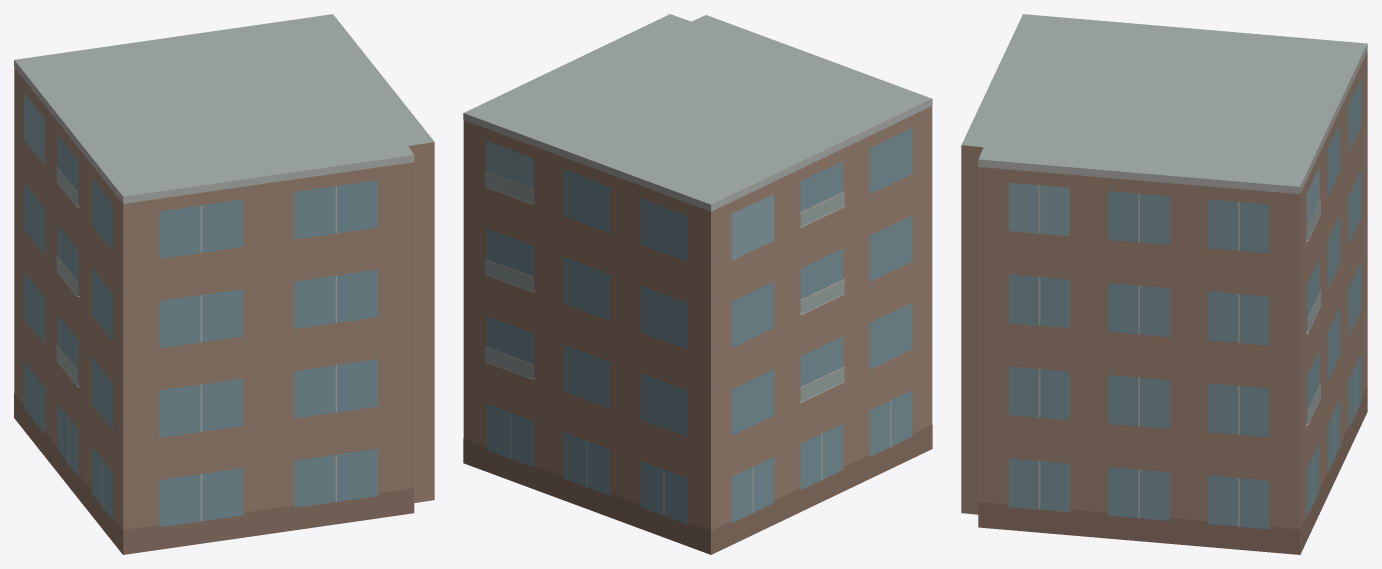
File: survey-upis-32666447.glb
The picture shows the model from 3 angles, left to right: view 1: azimuth 30°, elevation 25°; view 2: azimuth 150°, elevation 25°; view 3: azimuth 270°, elevation 25°; orthographic projection. The views are drawn at different scales.
Parts seen in each view (by area): view 1: survey-upis-32666447.tmp; view 2: survey-upis-32666447.tmp; view 3: survey-upis-32666447.tmp.
Part boxes in pixels (bbox=[...]): survey-upis-32666447.tmp: bbox=[14, 14, 434, 554]; survey-upis-32666447.tmp: bbox=[463, 14, 932, 554]; survey-upis-32666447.tmp: bbox=[961, 14, 1367, 554].
Size of the model in its own units: 12.26 by 12.16 by 12.18.
